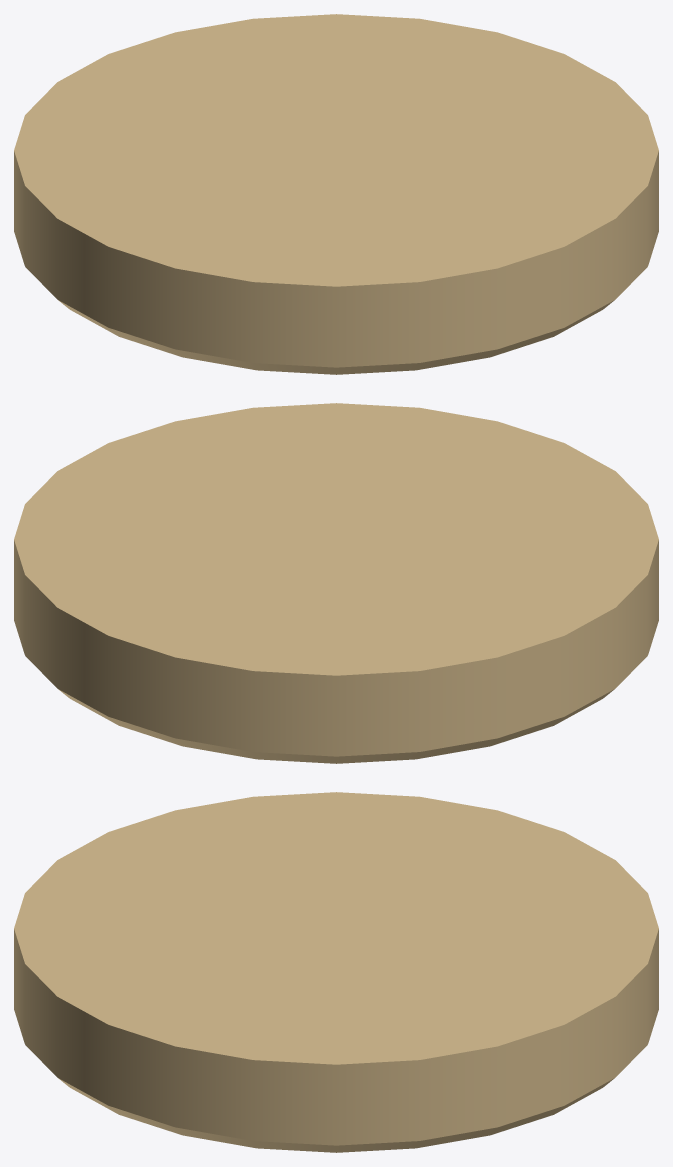
File: Kit_Padlock_Plug.fbx
3 renders of one model, top to bottom at view 1: azimuth 30°, elevation 25°; view 2: azimuth 150°, elevation 25°; view 3: azimuth 270°, elevation 25°, orthographic.
Visible parts, largest first — view 1: Kit_Padlock_Plug_LOD0; view 2: Kit_Padlock_Plug_LOD0; view 3: Kit_Padlock_Plug_LOD0.
Boxes of the visible parts, x1,y1,x2,y2 form: Kit_Padlock_Plug_LOD0: (14,14,658,374); Kit_Padlock_Plug_LOD0: (14,403,658,763); Kit_Padlock_Plug_LOD0: (14,792,658,1152).
Size of what is drawn, in the model's own units: 0.013 by 0.00216 by 0.013.
